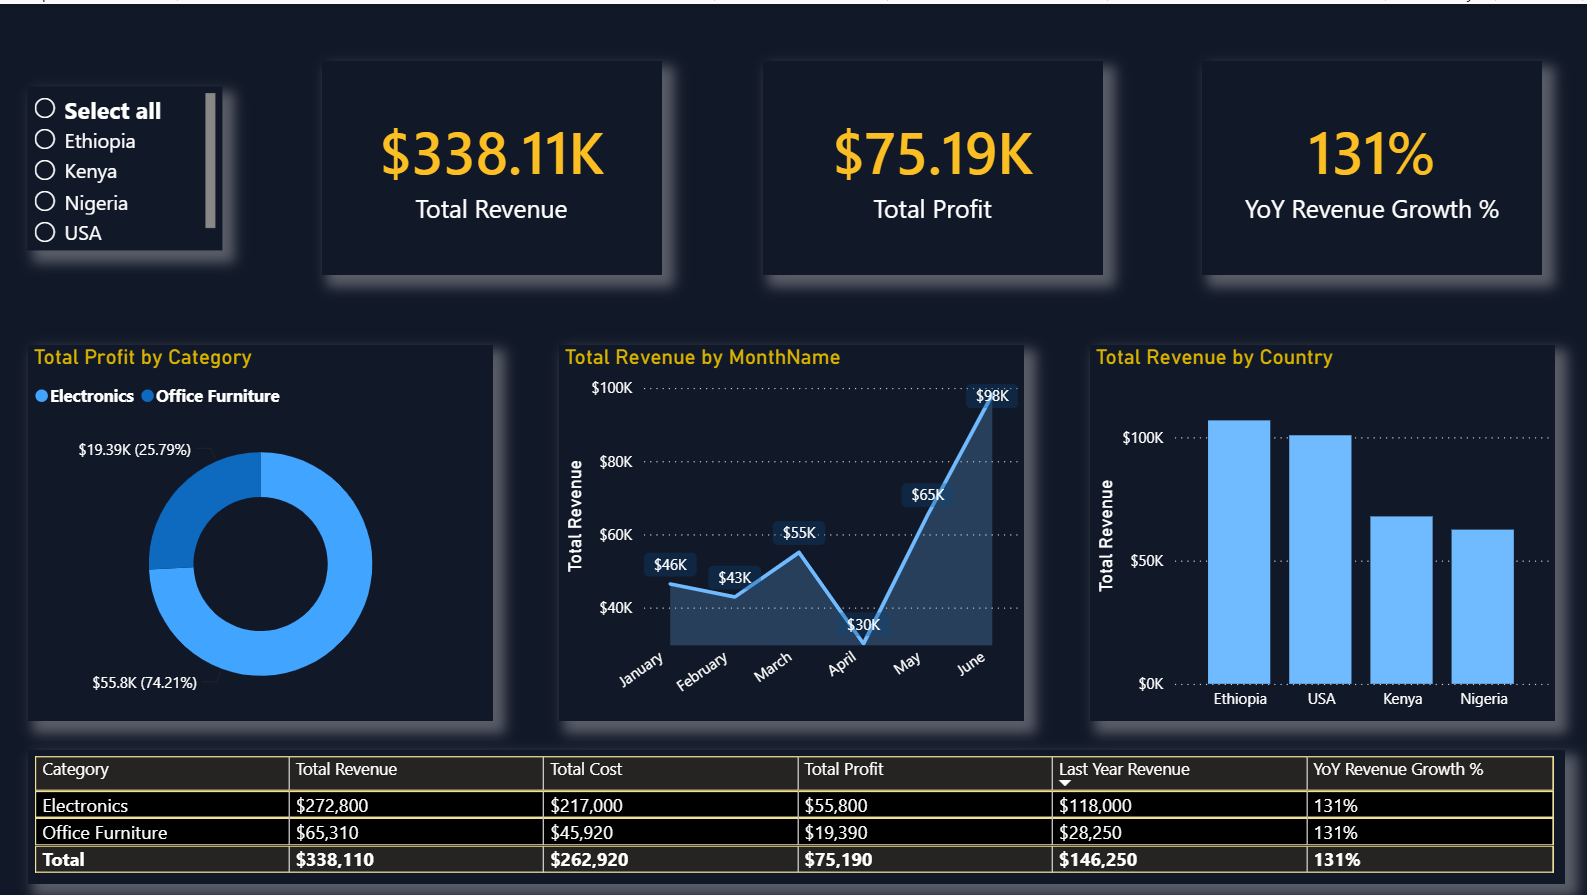

What the dashboard file says about the page in this screenshot:
{"tool":"powerbi","page":{"name":"Page 1","canvas":[1280,720],"ordinal":0},"visuals":[{"type":"tableEx","fields":{"Values":["Product.Category","Sales.Total Revenue","Sales.Total Cost","Sales.Total Profit","Sales.Last Year Revenue","Sales.YoY Revenue Growth %"]},"box":[22.7,600,1238.9,108.1],"z":0},{"type":"cardVisual","fields":{"Data":["Sales.Total Revenue"]},"box":[259.9,46,274.3,172.3],"z":1000},{"type":"cardVisual","fields":{"Data":["Sales.Total Profit"]},"box":[614.6,46,274.3,172.3],"z":2000},{"type":"cardVisual","fields":{"Data":["Sales.YoY Revenue Growth %"]},"box":[969.3,46,274.3,172.3],"z":3000},{"type":"listSlicer","fields":{"Values":["Customers.Country"]},"box":[22.7,65.9,156.8,131.9],"z":4000},{"type":"clusteredColumnChart","fields":{"Y":["Sales.Total Revenue"],"Category":["Customers.Country"]},"box":[878.9,274.3,374.8,303],"z":5000},{"type":"donutChart","fields":{"Category":["Product.Category"],"Y":["Sales.Total Profit"]},"box":[23,274.3,374.8,303],"z":6000},{"type":"lineChart","fields":{"Y":["Sales.Total Revenue"],"Category":["Calender.MonthName"]},"box":[450.9,274.3,374.8,303],"z":7000}]}

Visuals, with their boxes in screenshot pixels (x1, y1, x2, y2), scaled from the page's 1280x720 canvas onto the 1587x895 screenshot:
tableEx - Product.Category x Sales.Total Revenue: pyautogui.locateOnScreen(28, 746, 1564, 880)
cardVisual - Sales.Total Revenue: pyautogui.locateOnScreen(322, 57, 662, 271)
cardVisual - Sales.Total Profit: pyautogui.locateOnScreen(762, 57, 1102, 271)
cardVisual - Sales.YoY Revenue Growth %: pyautogui.locateOnScreen(1202, 57, 1542, 271)
listSlicer - Customers.Country: pyautogui.locateOnScreen(28, 82, 223, 246)
clusteredColumnChart - Sales.Total Revenue x Customers.Country: pyautogui.locateOnScreen(1090, 341, 1554, 718)
donutChart - Product.Category x Sales.Total Profit: pyautogui.locateOnScreen(29, 341, 493, 718)
lineChart - Sales.Total Revenue x Calender.MonthName: pyautogui.locateOnScreen(559, 341, 1024, 718)
